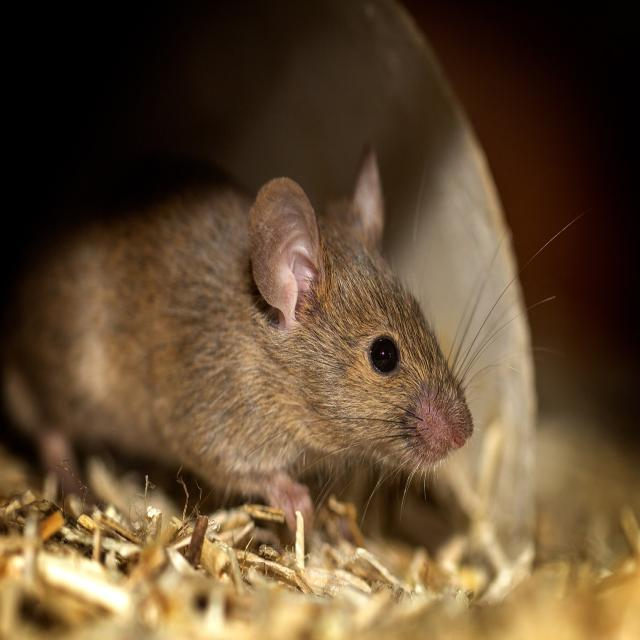rat: (21, 136, 482, 529)
